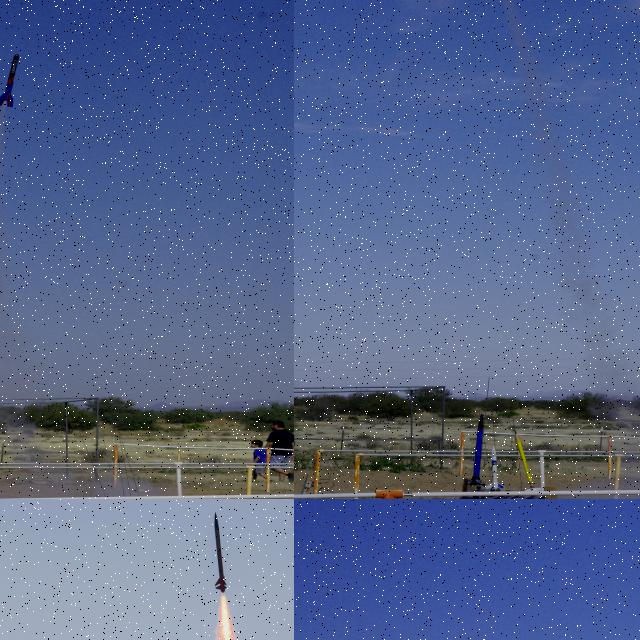Rocket: (513, 429, 541, 491), (466, 413, 486, 488), (214, 512, 228, 594), (0, 54, 21, 108), (486, 446, 505, 490)
